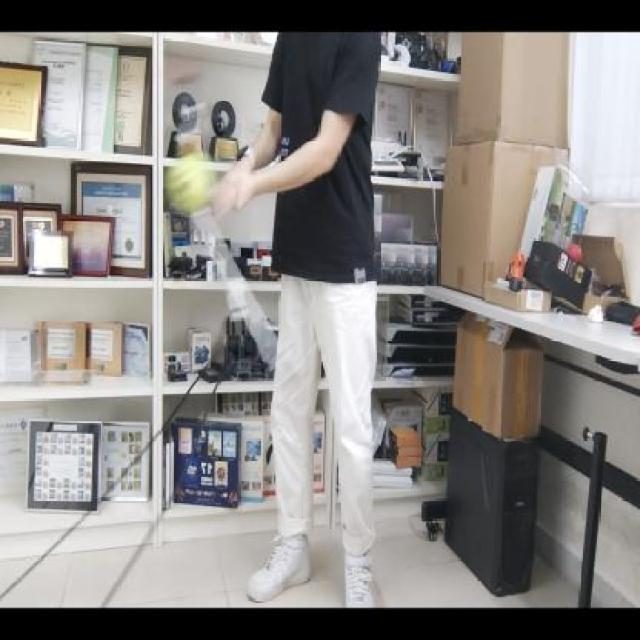baseball: (166, 155, 220, 214)
